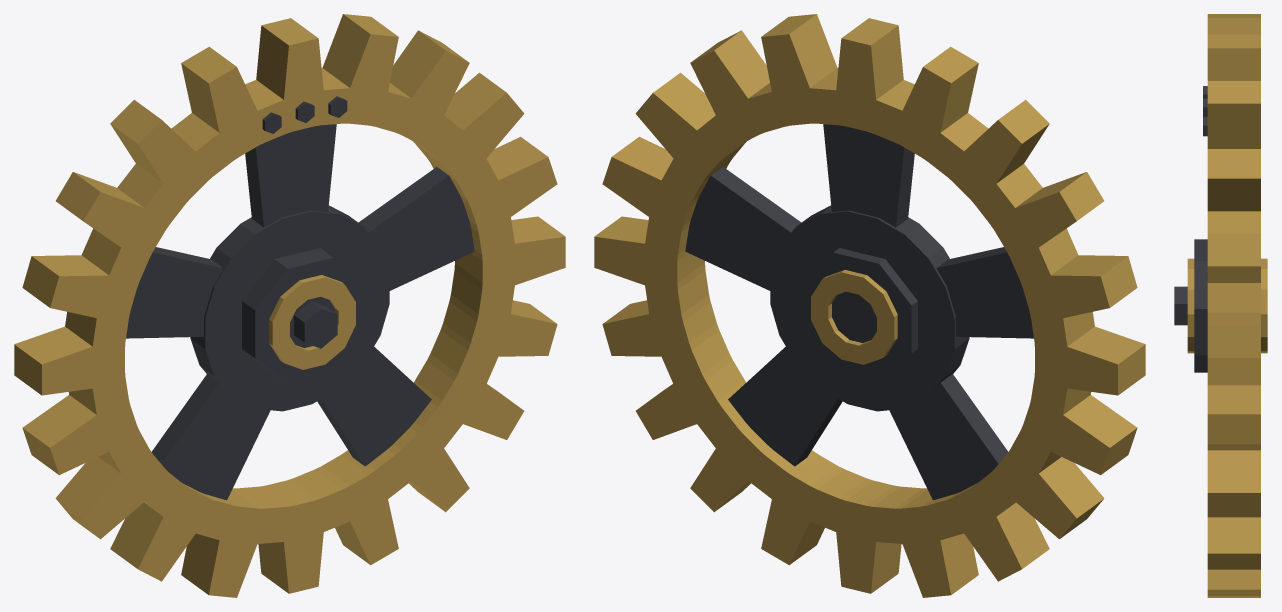
File: gear_m.fbx
3 views of the same model, side by side, from view 1: azimuth 30°, elevation 25°; view 2: azimuth 150°, elevation 25°; view 3: azimuth 270°, elevation 25° (orthographic). The views are drawn at different scales.
Visible parts, largest first — view 1: Gear_Puzzle_M_Rim, Gear_Puzzle_M_Spokes, Gear_Puzzle_M_Hub, Gear_Puzzle_M_SizeDots; view 2: Gear_Puzzle_M_Rim, Gear_Puzzle_M_Spokes, Gear_Puzzle_M_Hub; view 3: Gear_Puzzle_M_Rim, Gear_Puzzle_M_Hub, Gear_Puzzle_M_SizeDots.
Part boxes in pixels (bbox=[...]): Gear_Puzzle_M_Rim: bbox=[14, 14, 565, 597]; Gear_Puzzle_M_Spokes: bbox=[126, 124, 474, 499]; Gear_Puzzle_M_Hub: bbox=[242, 248, 365, 384]; Gear_Puzzle_M_SizeDots: bbox=[262, 96, 347, 133]; Gear_Puzzle_M_Rim: bbox=[594, 14, 1145, 597]; Gear_Puzzle_M_Spokes: bbox=[685, 124, 1033, 499]; Gear_Puzzle_M_Hub: bbox=[800, 248, 917, 379]; Gear_Puzzle_M_Rim: bbox=[1207, 14, 1260, 597]; Gear_Puzzle_M_Hub: bbox=[1174, 239, 1267, 372]; Gear_Puzzle_M_SizeDots: bbox=[1203, 86, 1207, 136].
Bounding box in the file's own units: 87.46 × 87.46 × 14.
